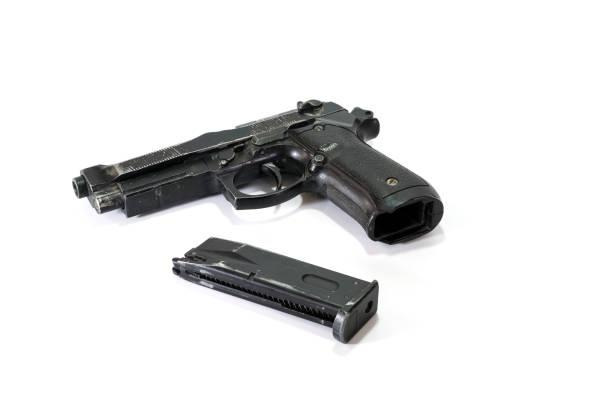weapon: (69, 93, 453, 248)
